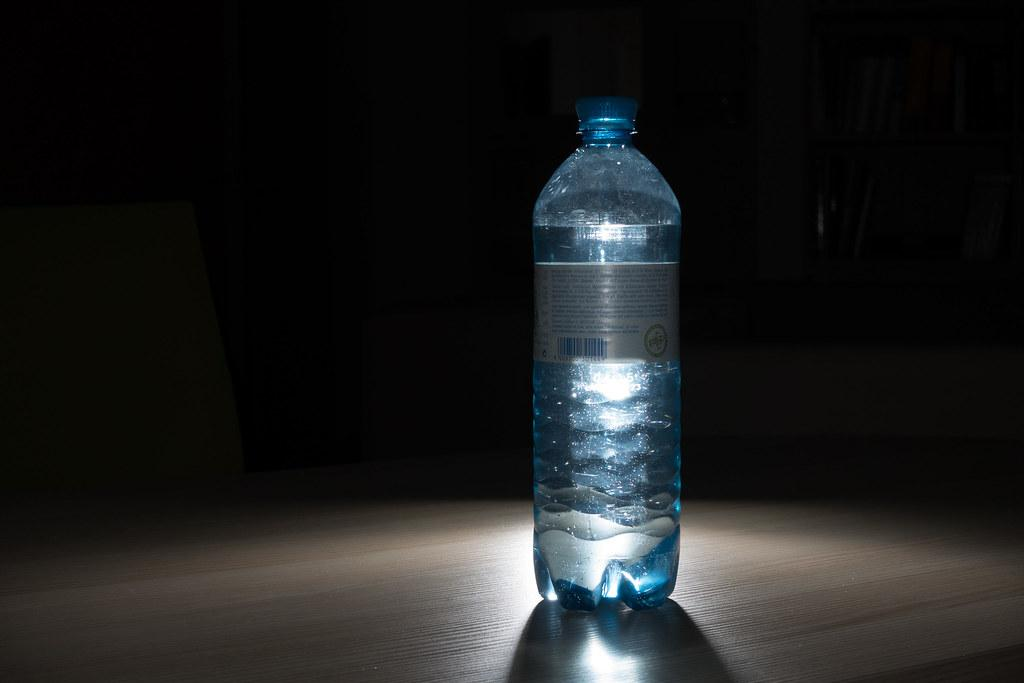bottle: (531, 96, 684, 612)
